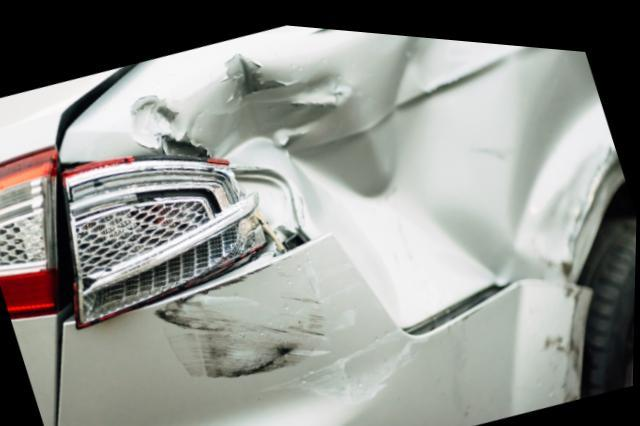dent: (131, 27, 516, 322)
lamp broken: (60, 153, 268, 329)
scratch: (159, 226, 414, 401), (538, 273, 594, 394)
